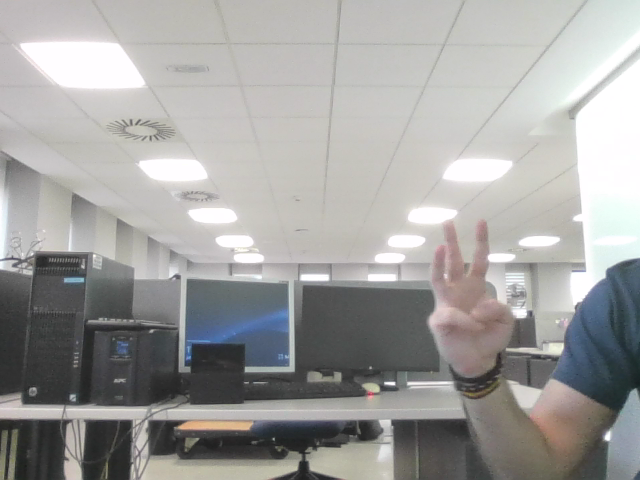3Dedos: (441, 231, 504, 339)
